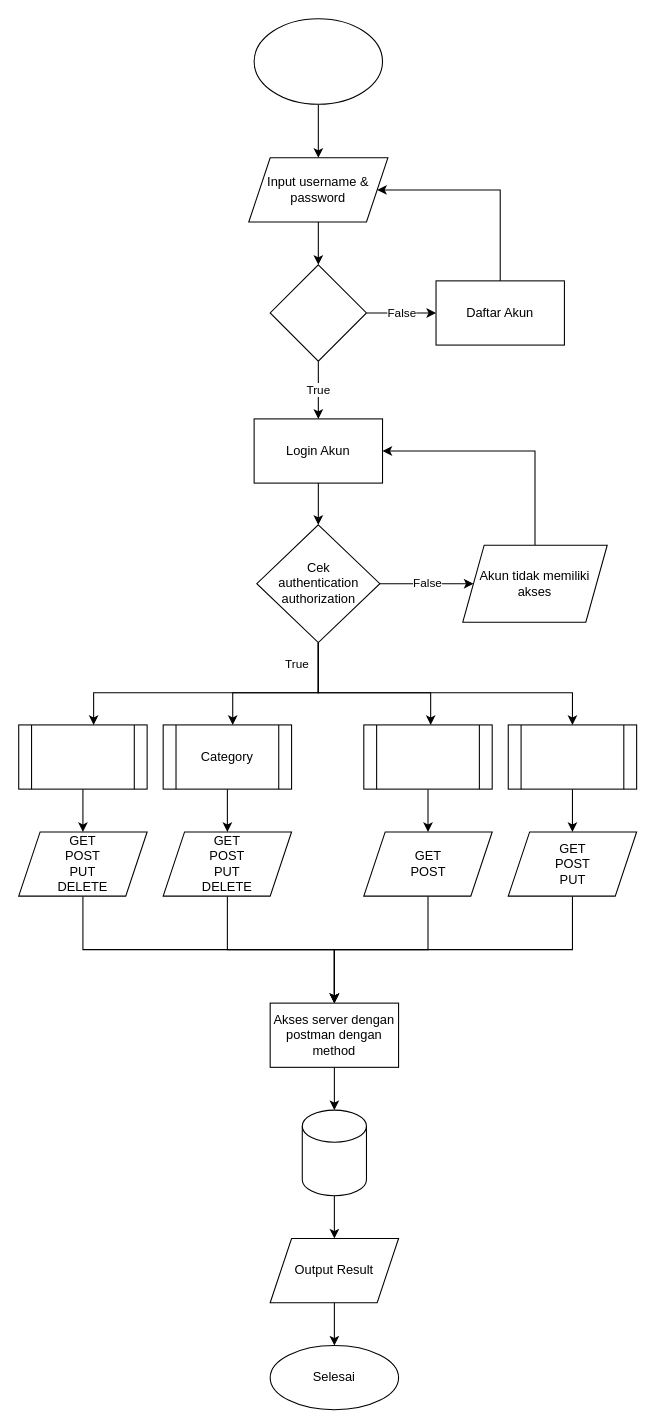
Image size: 656x1428. Some labels were removed from this diagram. Each missing label, with the centre of its shape:
"DB" belongs at pixel 333 1152.
"History" belongs at pixel 572 756.
"Mulai" belongs at pixel 318 61.
"Orders" belongs at pixel 427 756.
"Products" belongs at pixel 82 756.
"Sudah Ada Akun ?" belongs at pixel 317 312.
